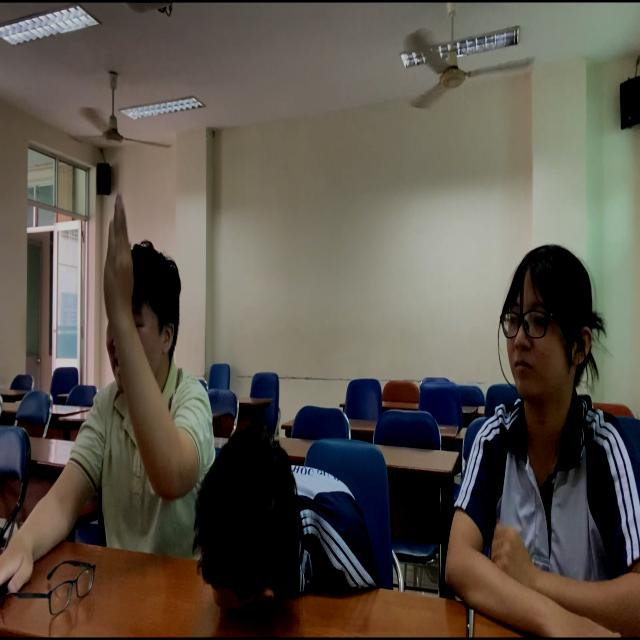raise_hand: (35, 199, 217, 572)
sleep: (186, 433, 396, 622)
